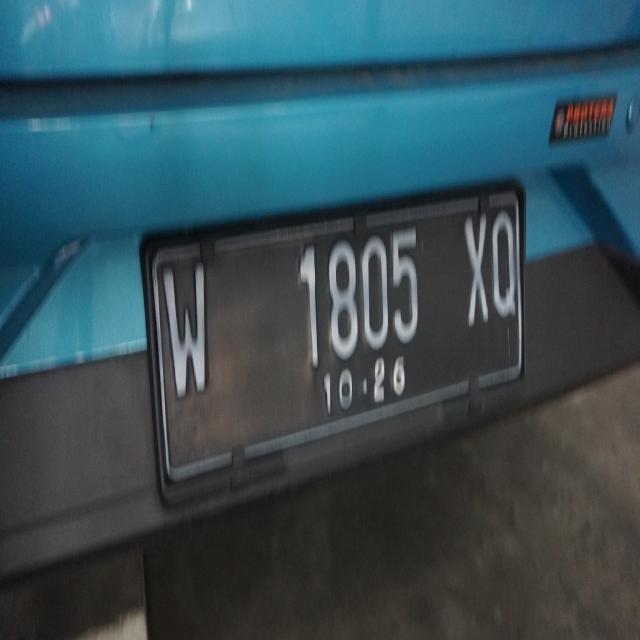0: (359, 231, 393, 352)
1: (296, 245, 326, 371)
5: (388, 227, 423, 339)
8: (322, 236, 360, 362)
Q: (487, 206, 522, 328)
W: (158, 252, 218, 410)
X: (455, 211, 493, 336)
